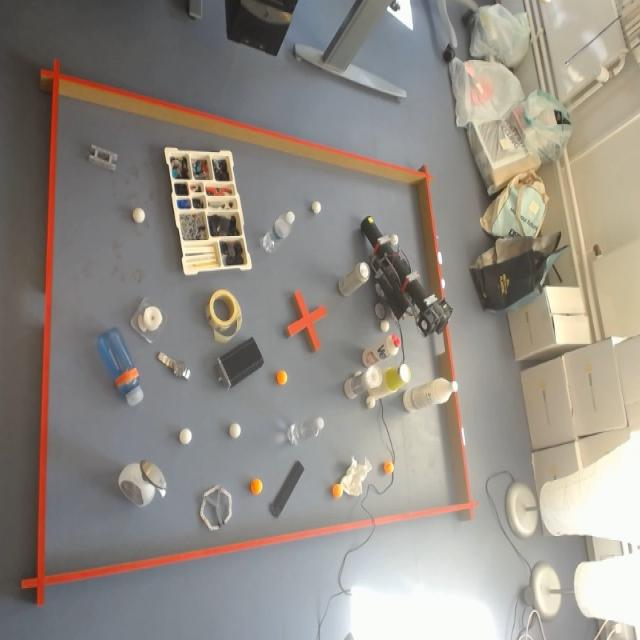orange: (251, 478, 262, 495), (278, 370, 288, 385), (333, 484, 343, 498), (384, 461, 394, 475)
robot: (361, 216, 453, 337)
robot-front: (366, 216, 374, 225)
white: (130, 206, 146, 226), (178, 426, 194, 446), (380, 317, 390, 333), (230, 424, 240, 438), (312, 200, 322, 213), (367, 396, 376, 408), (389, 234, 398, 245)
